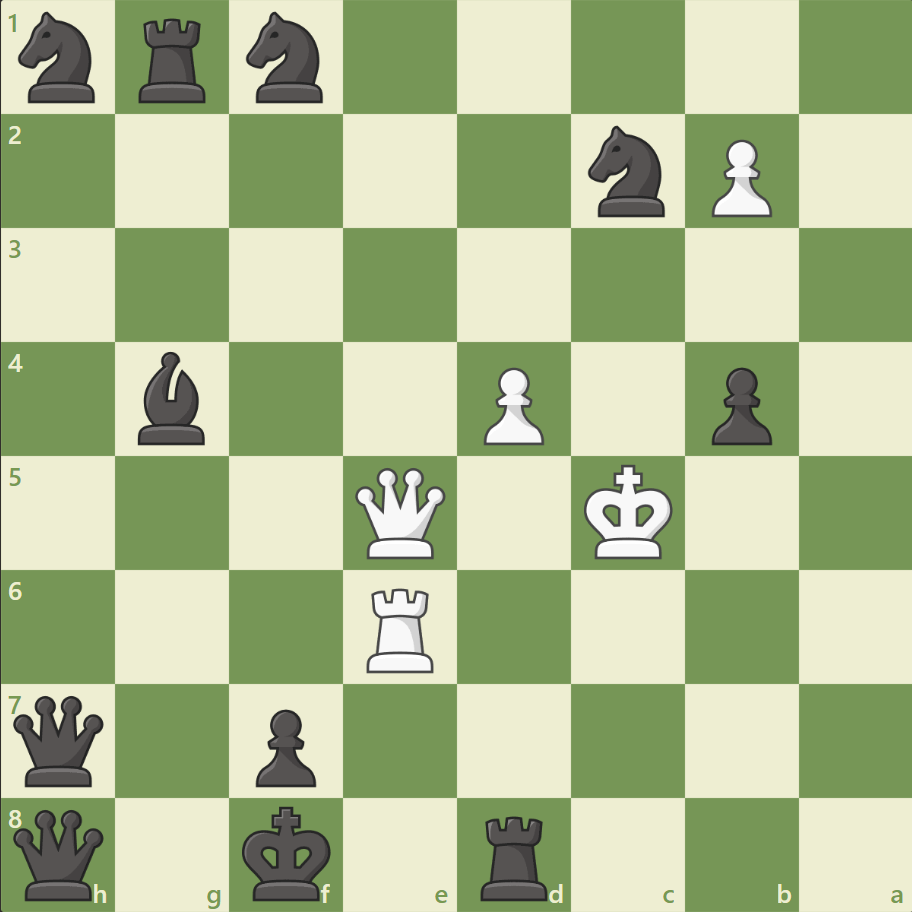K: (579, 458, 679, 566)
P: (474, 359, 549, 450), (701, 132, 776, 223)
Q: (351, 463, 450, 562)
R: (360, 579, 442, 676)
b: (131, 347, 215, 449)
k: (238, 798, 338, 906)
n: (238, 7, 335, 110), (11, 7, 108, 110), (579, 121, 676, 223)
p: (247, 700, 322, 791), (701, 359, 776, 450)
q: (10, 804, 109, 903), (10, 690, 109, 789)
r: (473, 806, 556, 904), (133, 12, 215, 109)
